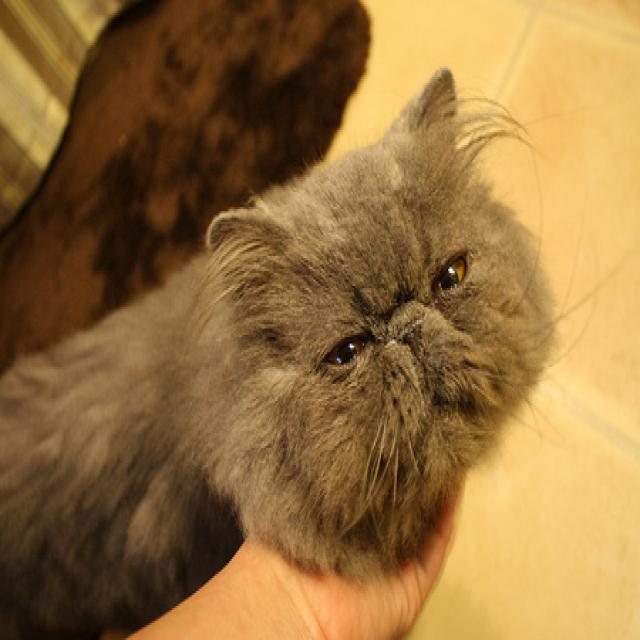Persian: (0, 62, 560, 640)
